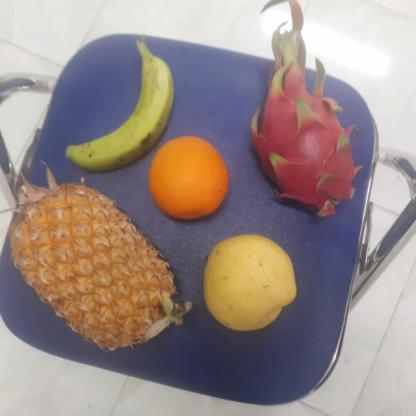banana: (62, 43, 174, 177)
orange: (145, 135, 231, 224)
pear: (200, 233, 298, 330)
pineapple: (3, 183, 182, 354)
pitaya: (242, 68, 366, 216)
